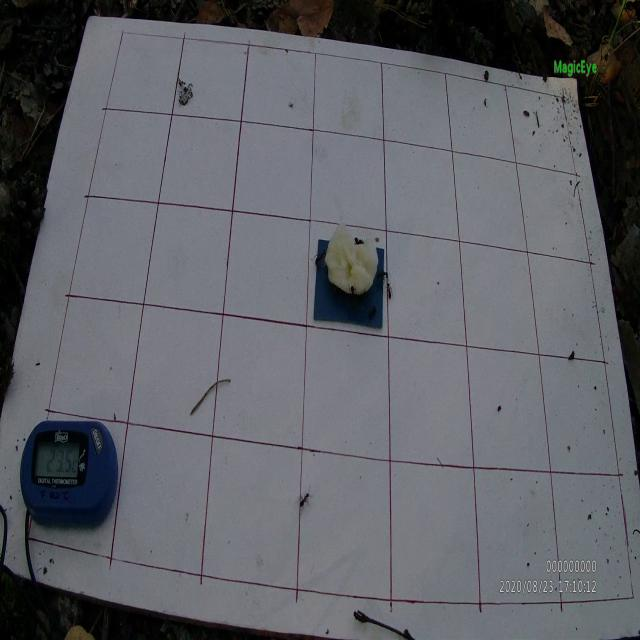Ant: (294, 484, 314, 516), (310, 250, 326, 267), (376, 270, 390, 283), (386, 281, 394, 301)
